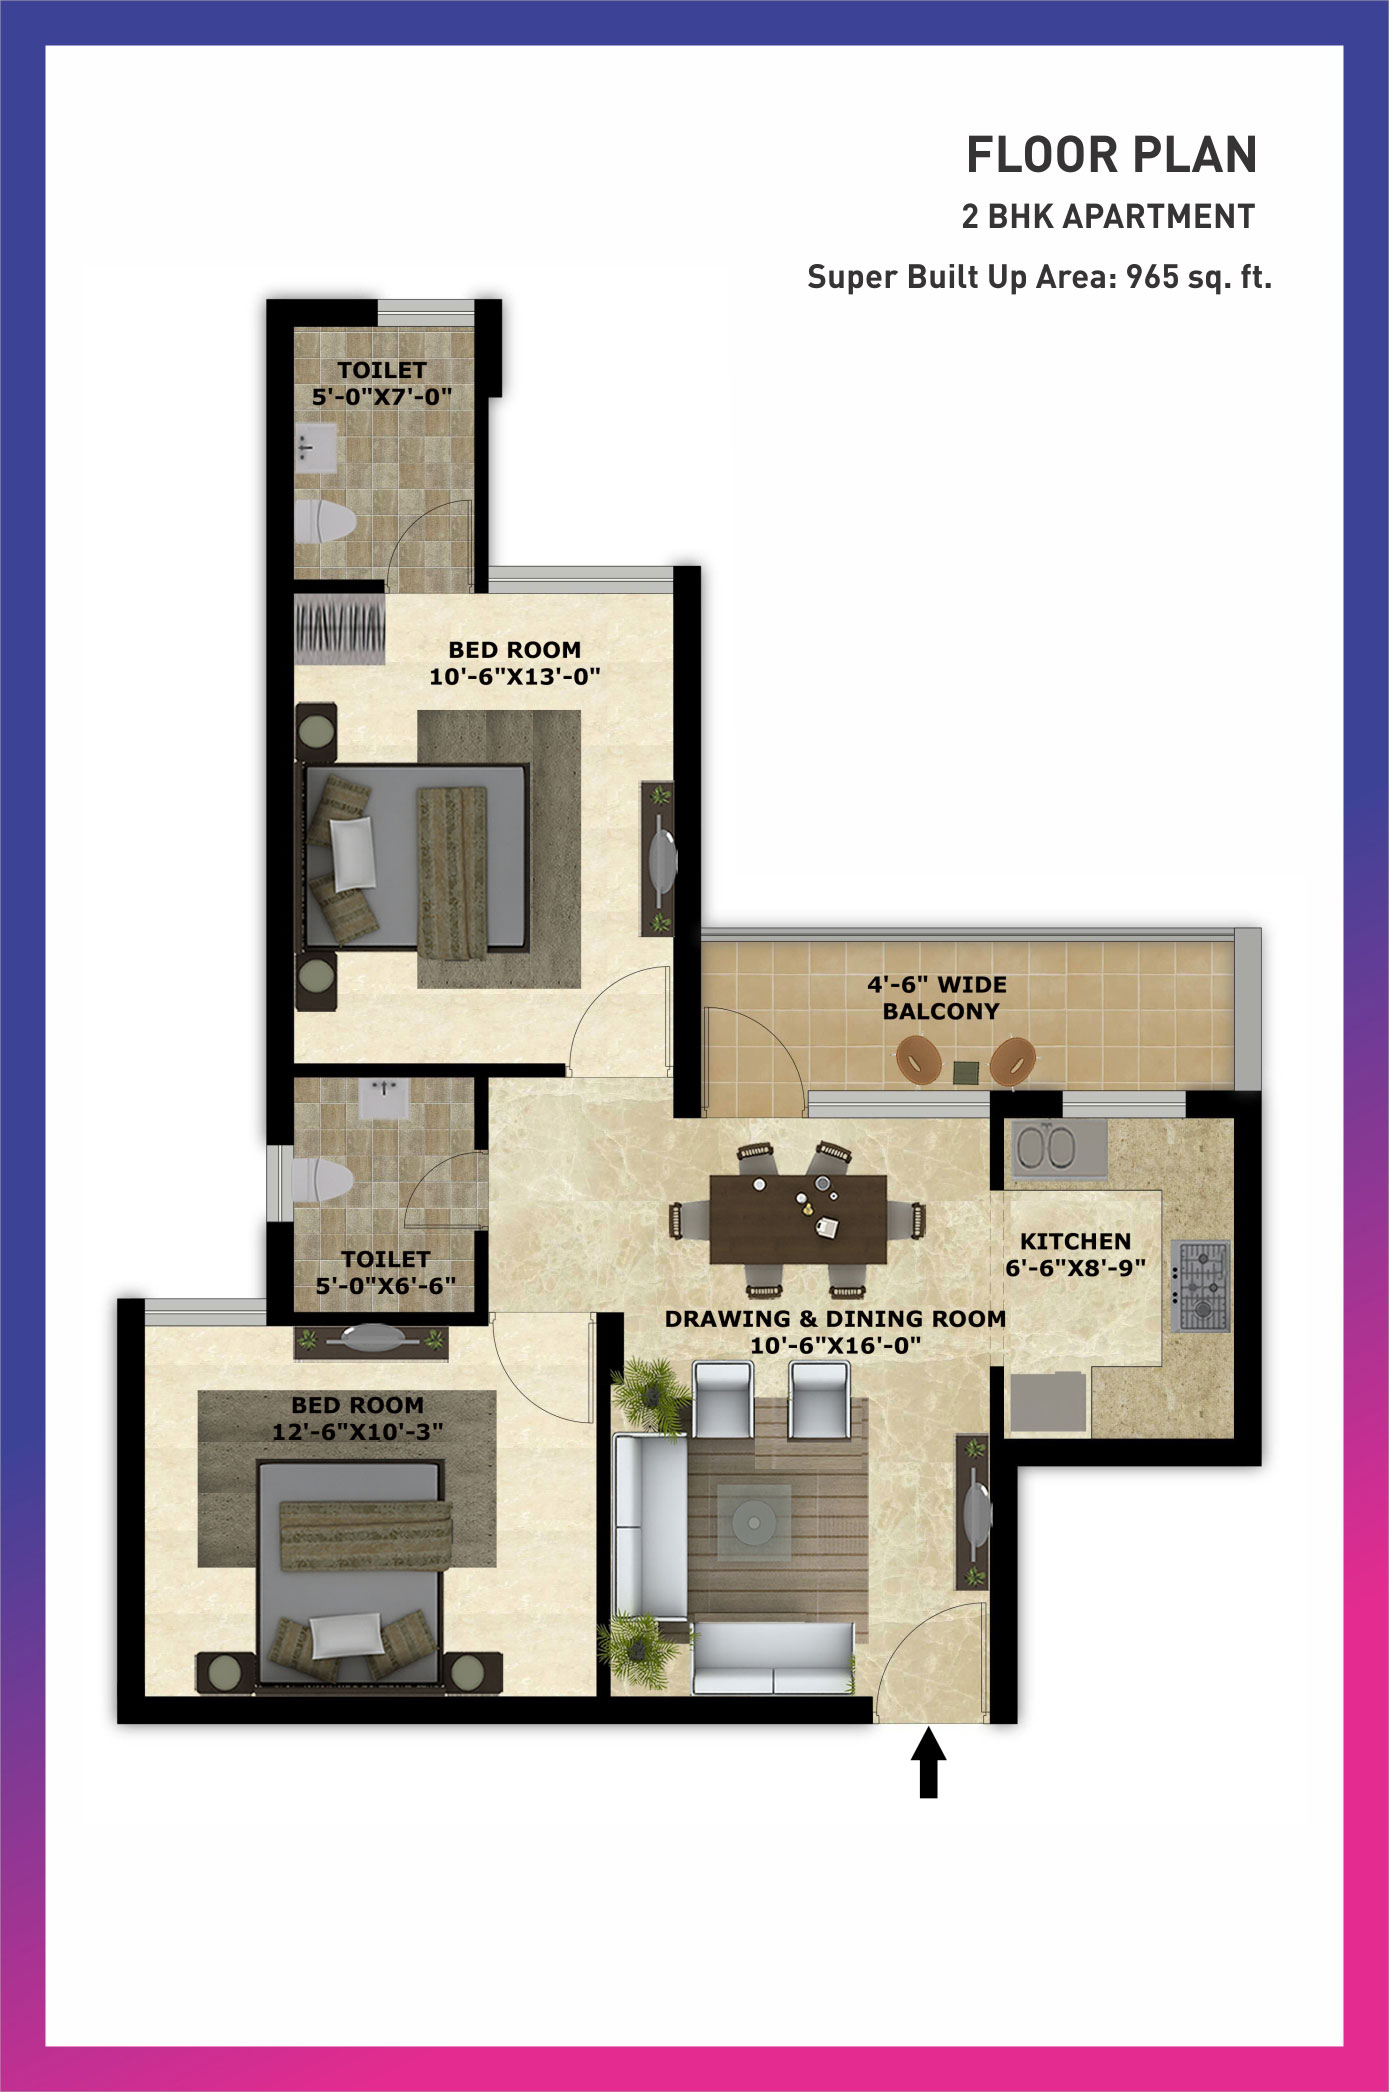door: (873, 1595, 989, 1701), (702, 993, 808, 1100), (560, 961, 671, 1058), (501, 1323, 594, 1429), (380, 491, 473, 575), (394, 1150, 467, 1234)
